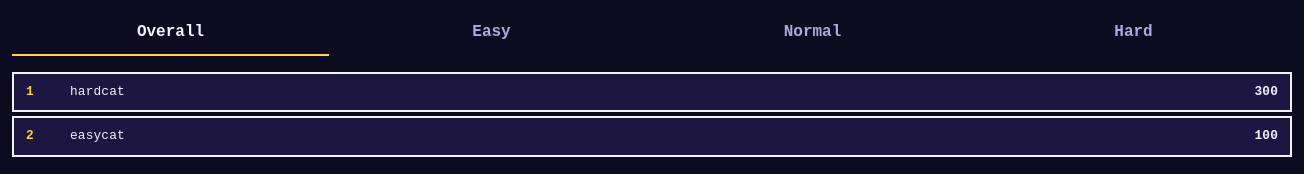
Test: LeaderboardTabs › shows only the selected difficulty after clicking its tab
The image size is (1304, 174).
# Radix Tabs activate on pointer-down, not a synthetic click.
Press the mouse on the tab "Hard" at x=1134, y=34, box [975, 12, 1292, 56]
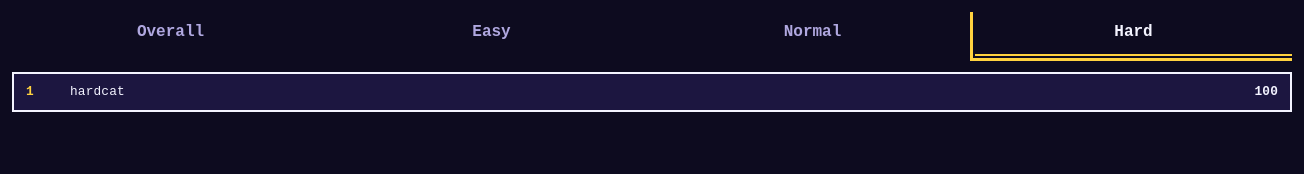
Expected: the text "hardcat" is shown, [70, 84, 125, 99]
Now the text "easycat" is gone
